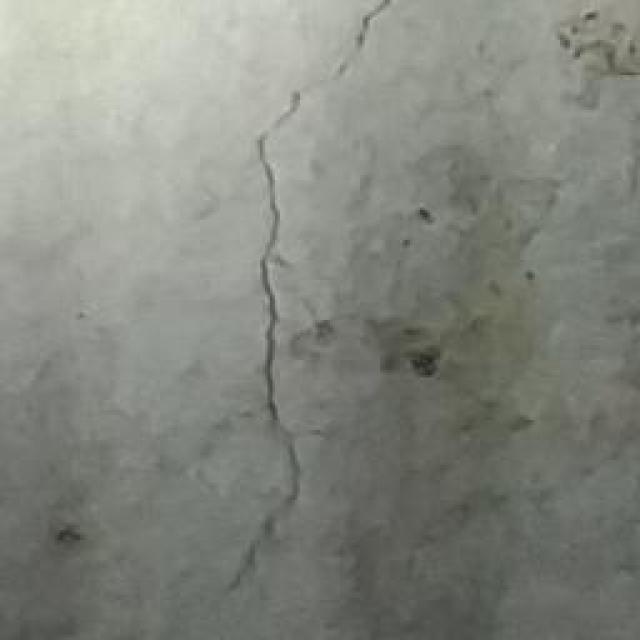Longitudinal: (206, 0, 390, 640)
